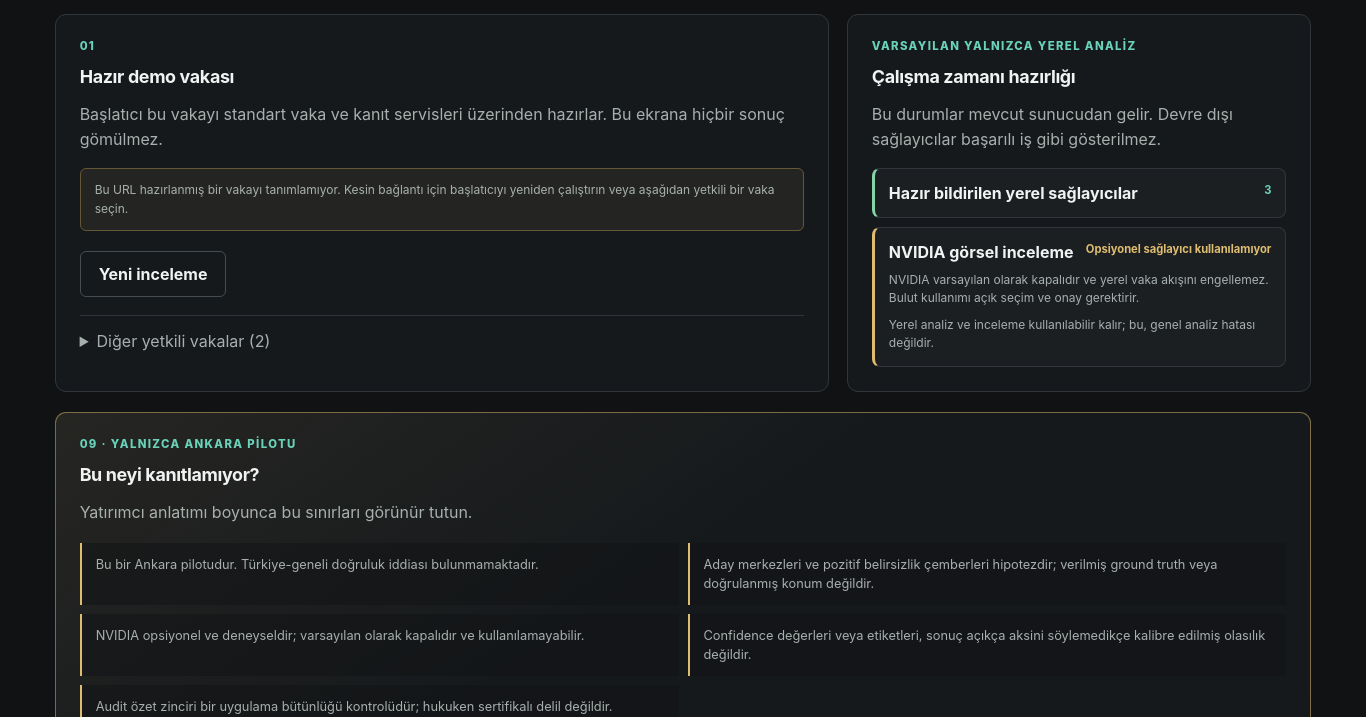
Scenario: Phase 3D guided investor demo › lists same-title authorized cases without semantic auto-selection
The width and height of the screenshot is (1366, 717).
(page scrolled)
Click the heading "Diğer yetkili vakalar (2)".
click(183, 341)  # box left=97, top=331, right=270, bottom=351
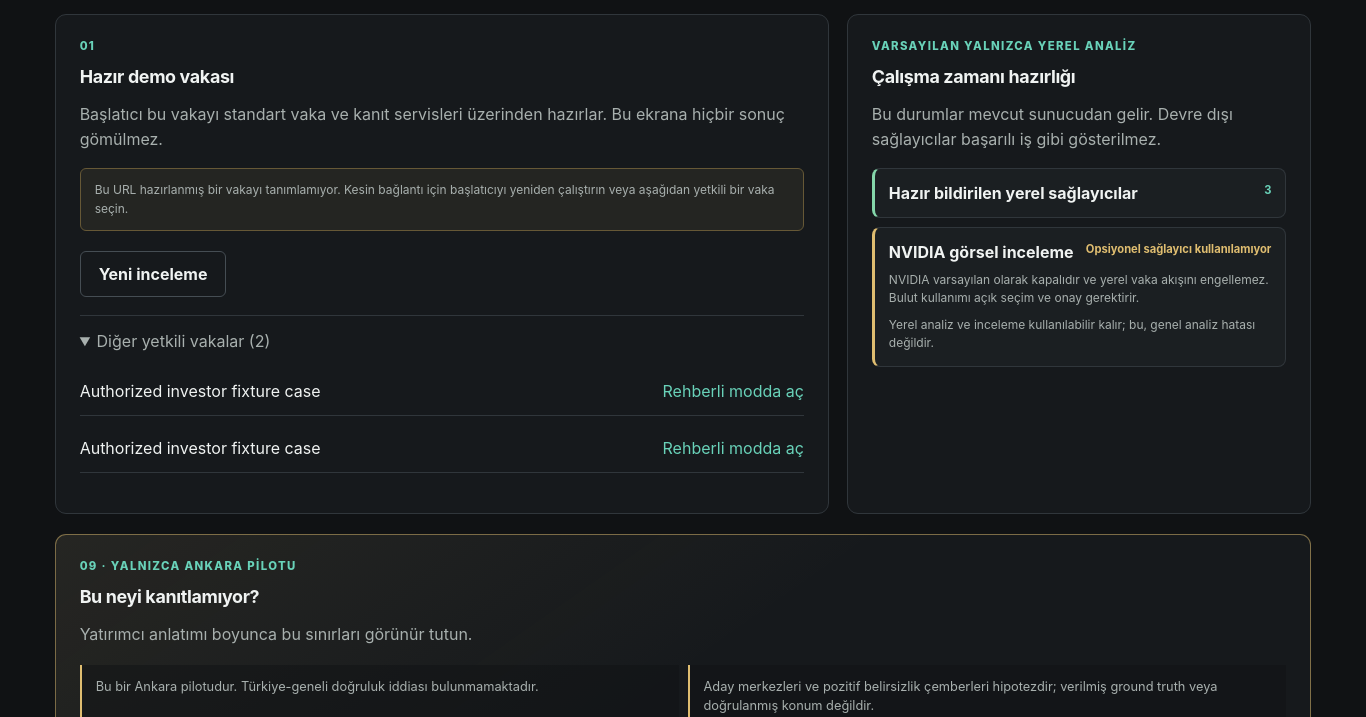
Expected: the number of buttons with test id "investor-authorized-case-open" is 2
Click the 2nd button with test id "investor-authorized-case-open".
click(733, 448)  # box left=662, top=434, right=804, bottom=462
(page scrolled)
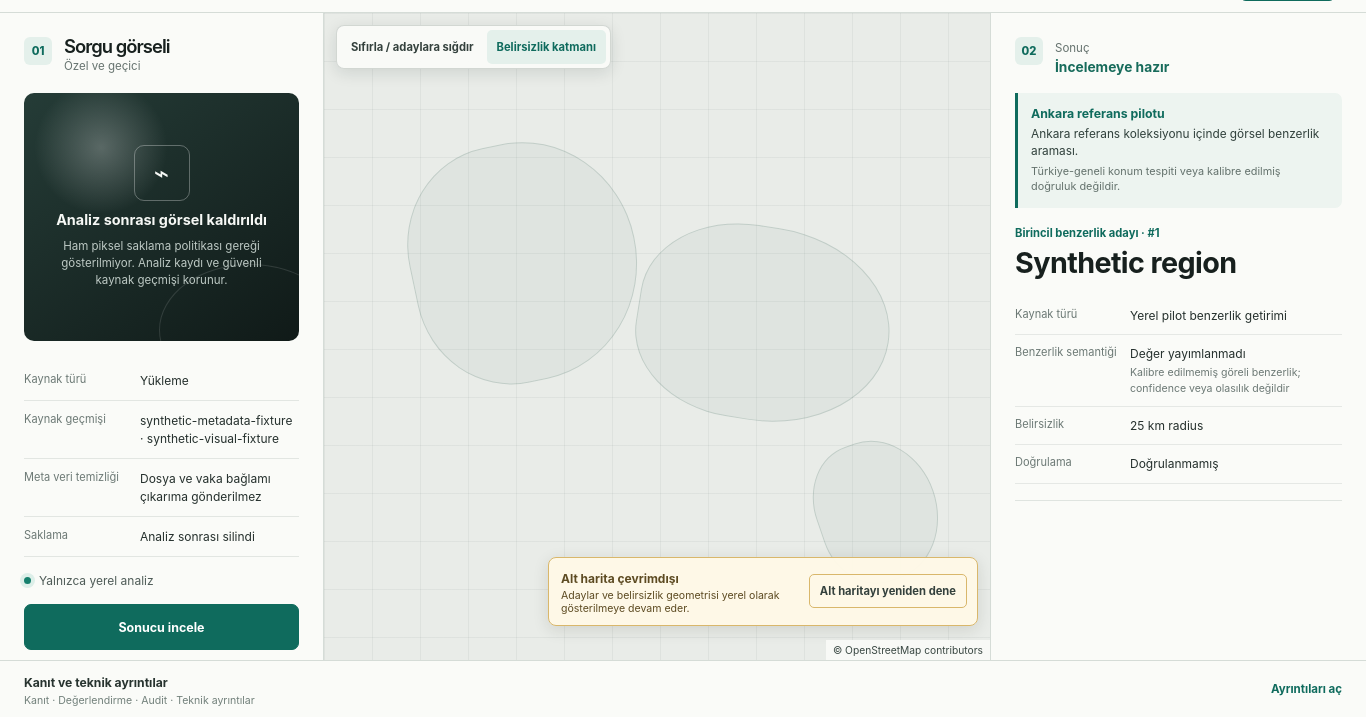
Expected: the heading "Sorgu görseli" is shown, left=64, top=37, right=170, bottom=55
